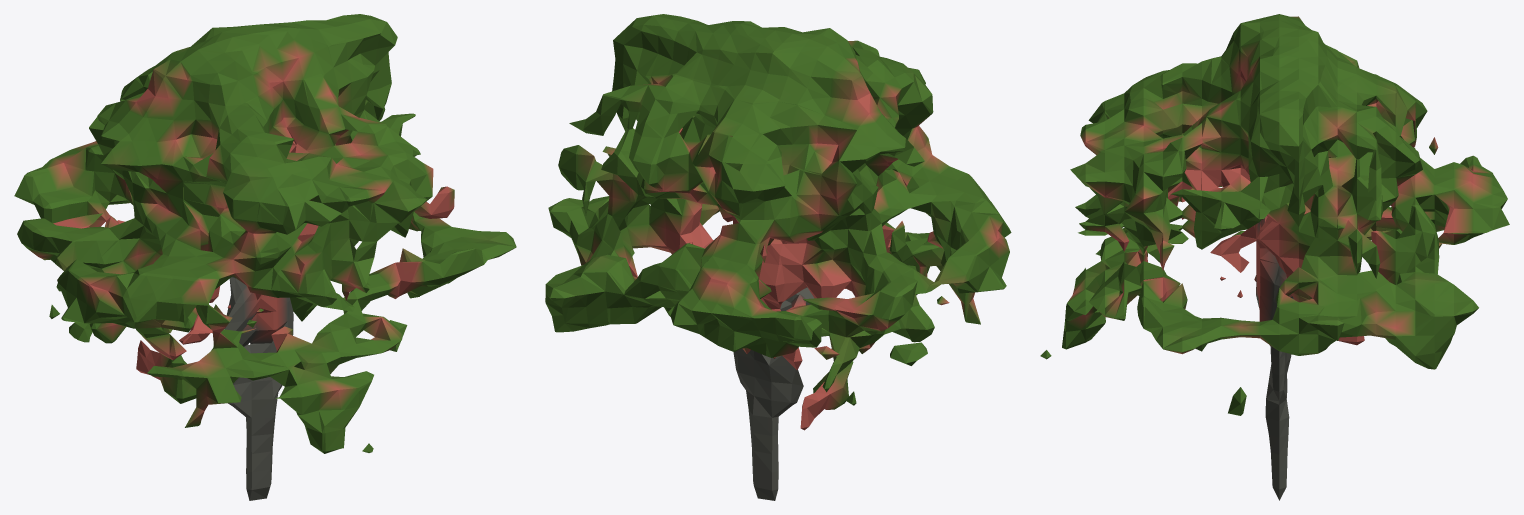
The model's file is apple_tree_590084.glb.
3 renders of one model, left to right at view 1: azimuth 30°, elevation 25°; view 2: azimuth 150°, elevation 25°; view 3: azimuth 270°, elevation 25°, orthographic. The views are drawn at different scales.
Visible parts, largest first — view 1: apple_tree_590084; view 2: apple_tree_590084; view 3: apple_tree_590084.
Boxes of the visible parts, x1,y1,x2,y2 form: apple_tree_590084: [14, 14, 516, 500]; apple_tree_590084: [545, 14, 1011, 500]; apple_tree_590084: [1040, 14, 1509, 500].
Bounding box in the file's own units: 0.8047 × 0.8562 × 0.7973.
